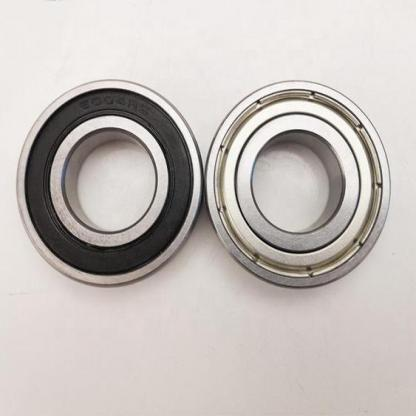FOD: (14, 76, 205, 293), (206, 76, 393, 292)
